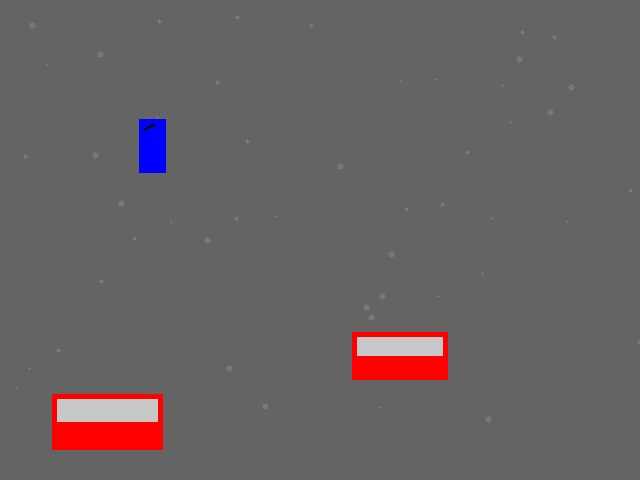car: (52, 394, 162, 449), (352, 332, 447, 379)
motorcycle: (139, 119, 165, 172)
